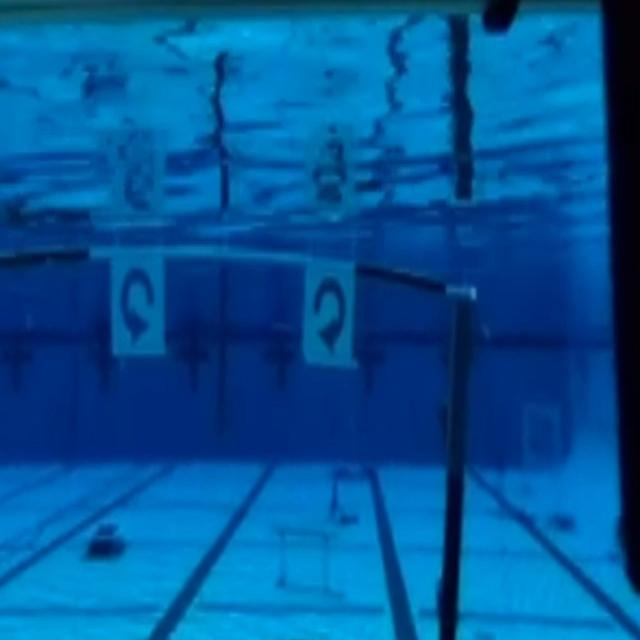Gate: (7, 237, 469, 632)
